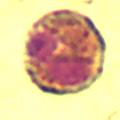eosi: (24, 9, 106, 95)
